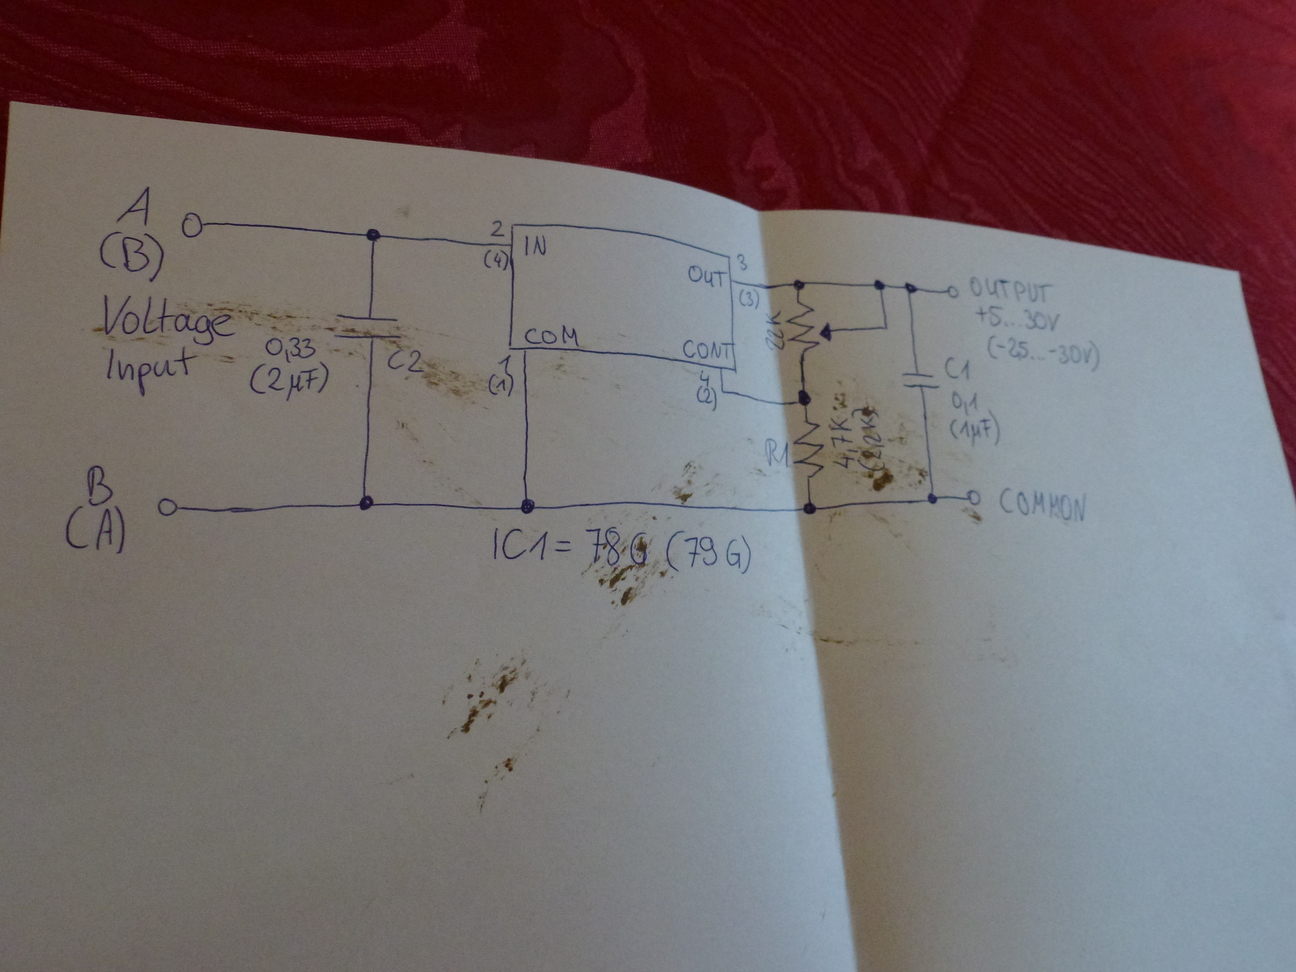capacitor.unpolarized: (327, 311, 409, 345), (899, 369, 938, 390)
integrated_circuit: (507, 218, 740, 375)
junction: (794, 385, 815, 408), (518, 494, 538, 517), (356, 493, 376, 513), (363, 225, 383, 243), (800, 499, 819, 516), (901, 279, 918, 294), (871, 277, 888, 292), (791, 277, 806, 291), (926, 492, 939, 505), (880, 321, 891, 333), (717, 386, 727, 397)
resistor: (790, 415, 827, 481)
resistor.adjustable: (786, 297, 837, 361)
terminal: (178, 207, 207, 240), (153, 494, 179, 518), (963, 486, 984, 509), (942, 285, 964, 301)
text: (489, 523, 754, 580), (94, 292, 240, 347), (100, 344, 198, 396), (981, 334, 1102, 370), (96, 228, 168, 284), (994, 484, 1089, 525), (63, 504, 130, 558), (245, 359, 330, 399), (967, 272, 1055, 303), (973, 304, 1064, 333), (850, 405, 888, 472), (112, 181, 156, 229), (946, 412, 1001, 447), (82, 461, 117, 508), (262, 334, 318, 363), (829, 416, 858, 472), (386, 345, 433, 379), (682, 337, 731, 364), (524, 324, 581, 346), (762, 309, 786, 355), (761, 435, 790, 471), (687, 264, 724, 289), (941, 354, 971, 382), (949, 389, 983, 414), (486, 372, 515, 399), (520, 232, 550, 258), (695, 385, 720, 414), (483, 247, 508, 271), (737, 288, 761, 311), (487, 218, 506, 240), (496, 353, 513, 373), (697, 369, 713, 388), (735, 251, 749, 271)
